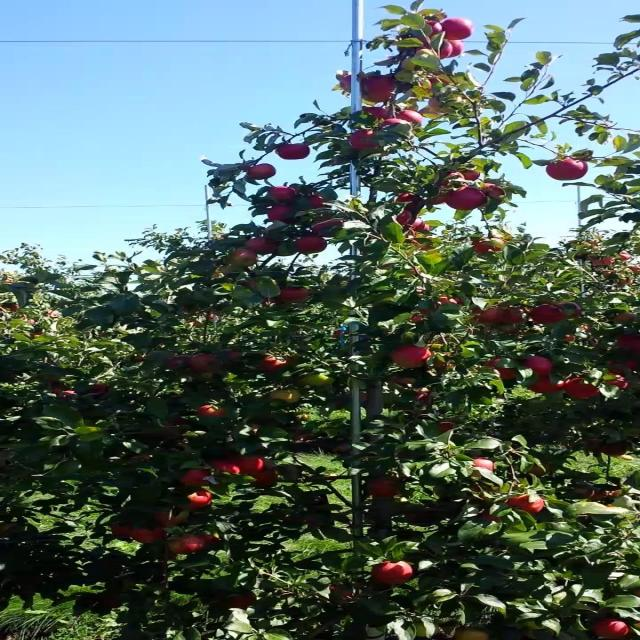apple: (369, 560, 418, 586), (547, 160, 590, 183), (447, 188, 485, 212), (390, 348, 434, 368), (568, 376, 603, 400), (504, 496, 548, 515), (483, 360, 519, 381), (596, 620, 633, 640), (440, 20, 476, 40), (170, 536, 206, 556), (184, 488, 213, 512), (419, 20, 443, 47), (348, 132, 382, 151), (532, 304, 562, 325), (369, 480, 400, 500), (525, 356, 555, 376), (312, 220, 347, 237), (276, 144, 313, 160), (134, 528, 171, 544), (234, 456, 267, 473), (184, 468, 212, 488), (269, 204, 297, 224), (248, 236, 279, 254), (298, 236, 327, 255), (156, 512, 190, 528), (362, 84, 398, 99), (227, 592, 256, 610), (234, 248, 261, 267), (262, 356, 292, 373), (191, 356, 222, 372), (604, 372, 631, 390), (212, 460, 242, 476), (440, 40, 464, 60), (248, 164, 277, 180), (284, 288, 313, 304), (305, 372, 334, 388), (369, 76, 398, 92), (476, 308, 503, 325), (532, 380, 562, 395), (454, 628, 491, 640), (476, 240, 505, 255), (248, 472, 277, 487), (468, 484, 496, 499), (269, 392, 302, 404), (362, 92, 395, 104), (269, 188, 299, 201), (340, 76, 366, 91), (504, 308, 528, 324), (618, 336, 638, 355), (604, 444, 631, 458), (611, 360, 638, 374), (483, 184, 505, 201), (362, 108, 393, 120), (397, 112, 427, 124), (561, 304, 583, 320), (333, 584, 356, 599), (397, 196, 423, 209), (198, 408, 228, 419), (113, 524, 135, 539), (419, 76, 441, 91), (440, 172, 460, 188), (397, 212, 418, 227), (340, 76, 361, 91), (426, 192, 450, 205), (170, 356, 192, 369), (412, 220, 434, 233), (582, 440, 604, 453), (589, 256, 615, 267), (422, 100, 443, 113), (476, 460, 498, 472), (56, 388, 78, 400), (412, 240, 434, 252), (390, 376, 416, 386), (440, 296, 462, 307), (483, 512, 505, 523), (92, 384, 112, 396), (419, 388, 434, 404), (618, 360, 638, 372), (532, 464, 551, 476), (575, 488, 594, 500), (127, 456, 155, 464), (312, 196, 329, 209), (618, 312, 638, 323), (461, 172, 484, 181), (106, 596, 121, 609), (589, 492, 608, 502), (440, 180, 457, 191), (205, 536, 222, 546), (383, 120, 404, 128), (618, 252, 633, 263), (611, 488, 626, 499), (433, 76, 450, 85), (241, 280, 258, 289), (383, 120, 402, 128), (227, 352, 242, 362), (440, 424, 455, 433), (412, 316, 427, 324), (6, 304, 21, 312), (504, 328, 521, 335), (447, 172, 460, 181)
